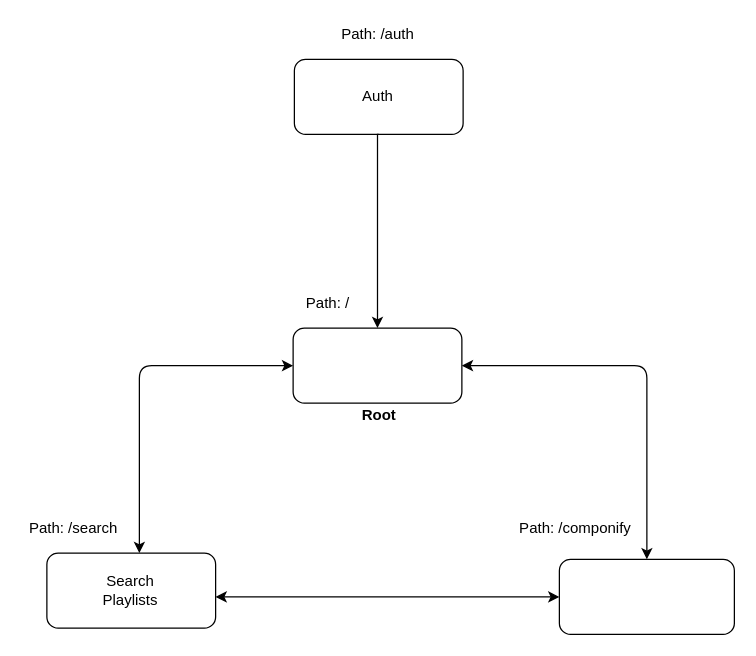
The diagram is 756 pixels wide and 656 high, and some of its shapes have lost their labels. The shapes that lost their labels are listed below. From the top down, each one's box as (x1, y1, x2, y2) in pixels, then its label:
(292, 327, 462, 403): User's Playlists
(558, 558, 734, 634): Componify Playlists
